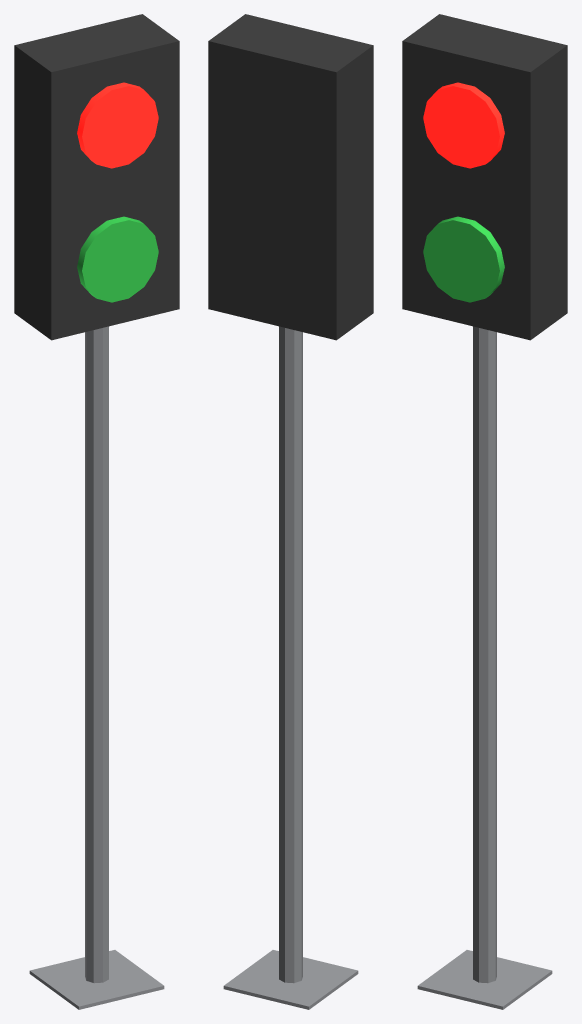
Rendered from pit_exit_light.glb.
3 views of the same model, side by side, from view 1: azimuth 30°, elevation 25°; view 2: azimuth 150°, elevation 25°; view 3: azimuth 330°, elevation 25° (orthographic).
Visible parts, largest first — view 1: pit_exit_light; view 2: pit_exit_light; view 3: pit_exit_light.
Part boxes in pixels (box(x1,y1,x2,y2)): pit_exit_light: box(14, 14, 179, 1009); pit_exit_light: box(208, 14, 373, 1009); pit_exit_light: box(402, 14, 567, 1009).
Size of the model in its own units: 0.6 by 4.2 by 0.4.
